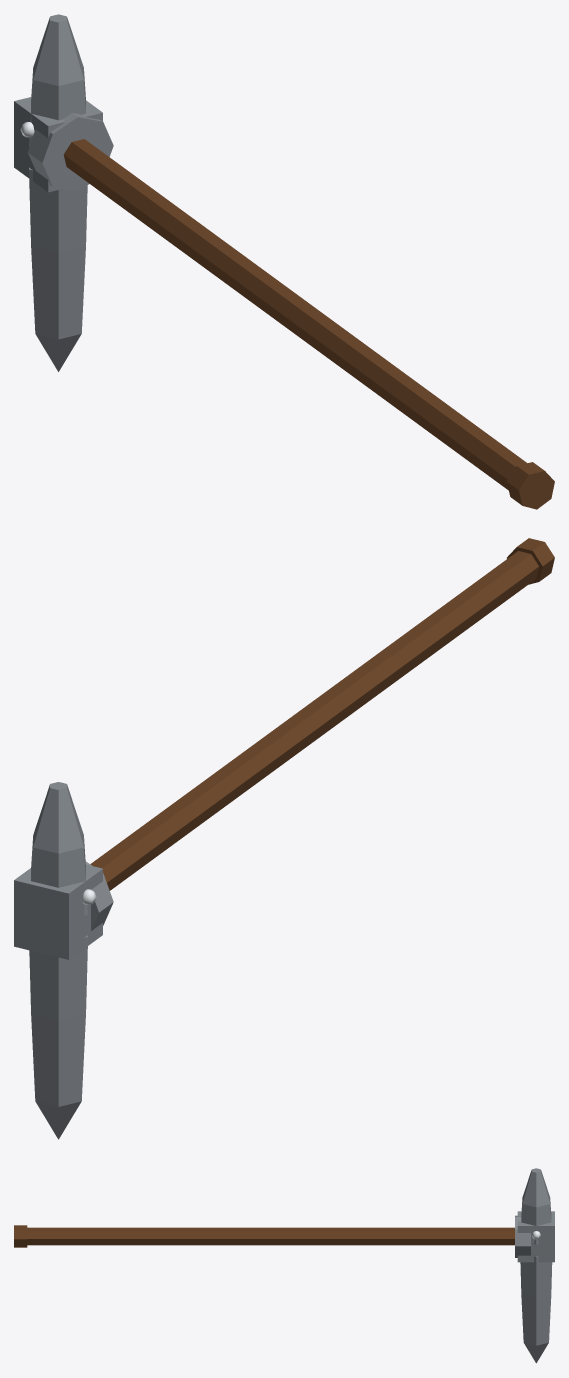
File: Tool_Pickaxe_Iron.fbx
The picture shows the model from 3 angles, top to bottom: view 1: azimuth 30°, elevation 25°; view 2: azimuth 150°, elevation 25°; view 3: azimuth 270°, elevation 25°; orthographic projection. The views are drawn at different scales.
Visible parts, largest first — view 1: Tool_Pickaxe_Iron; view 2: Tool_Pickaxe_Iron; view 3: Tool_Pickaxe_Iron.
Boxes of the visible parts, <box> form: Tool_Pickaxe_Iron: <box>14,14,554,509</box>; Tool_Pickaxe_Iron: <box>14,538,554,1139</box>; Tool_Pickaxe_Iron: <box>14,1168,554,1363</box>.
Bounding box in the file's own units: 3.41 × 16 × 40.6.
